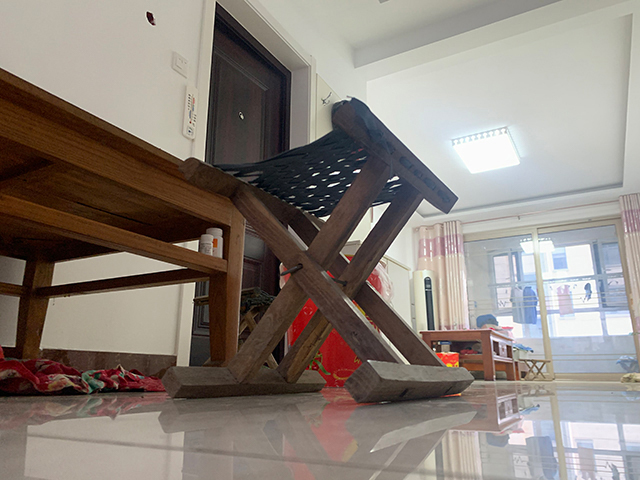curtain: (423, 223, 471, 327)
stool: (162, 95, 476, 404), (520, 357, 552, 382)
table: (1, 67, 247, 368), (420, 328, 523, 382)
